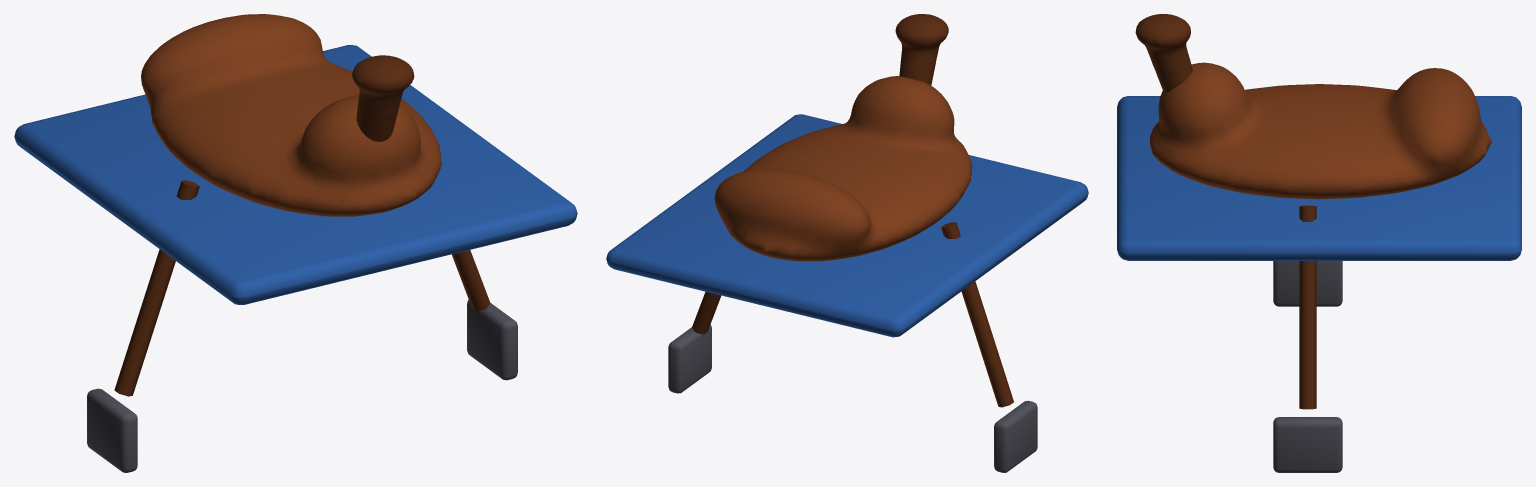
File: horse_saddle.glb
3 renders of one model, left to right at view 1: azimuth 30°, elevation 25°; view 2: azimuth 150°, elevation 25°; view 3: azimuth 270°, elevation 25°, orthographic. The views are drawn at different scales.
Parts seen in each view (by area): view 1: horse_saddle; view 2: horse_saddle; view 3: horse_saddle.
Part boxes in pixels (x1=…): horse_saddle: x1=14, y1=14, x2=577, y2=472; horse_saddle: x1=606, y1=14, x2=1088, y2=472; horse_saddle: x1=1117, y1=14, x2=1521, y2=472.
Size of the model in its own units: 0.71 by 0.7043 by 0.7.
